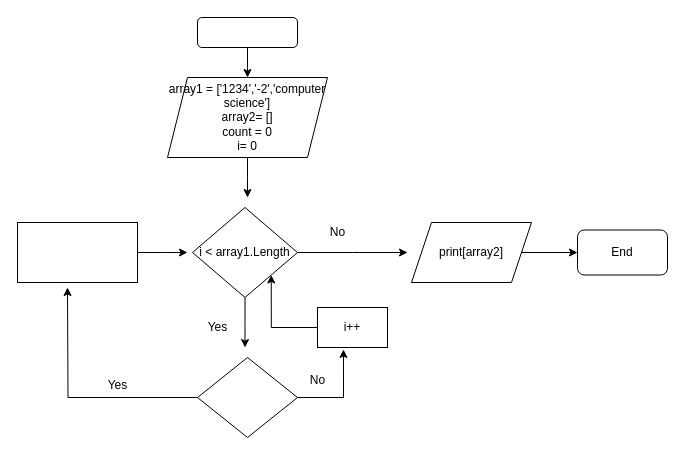
The diagram is 685 pixels wide and 455 high, and some of its shapes have lost their labels. Here are the shapes that lost their labels. From the top down, the box of each, then its label:
(196, 16, 298, 48): Start
(16, 222, 138, 282): array2[count] = array1[i] count++ i++
(196, 356, 298, 438): array1[i].Length <=3
